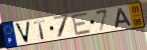7: (53, 14, 70, 40), (95, 8, 109, 33)
A: (114, 7, 134, 30)
E: (70, 11, 93, 37)
T: (33, 19, 47, 41)
V: (14, 20, 32, 44)
